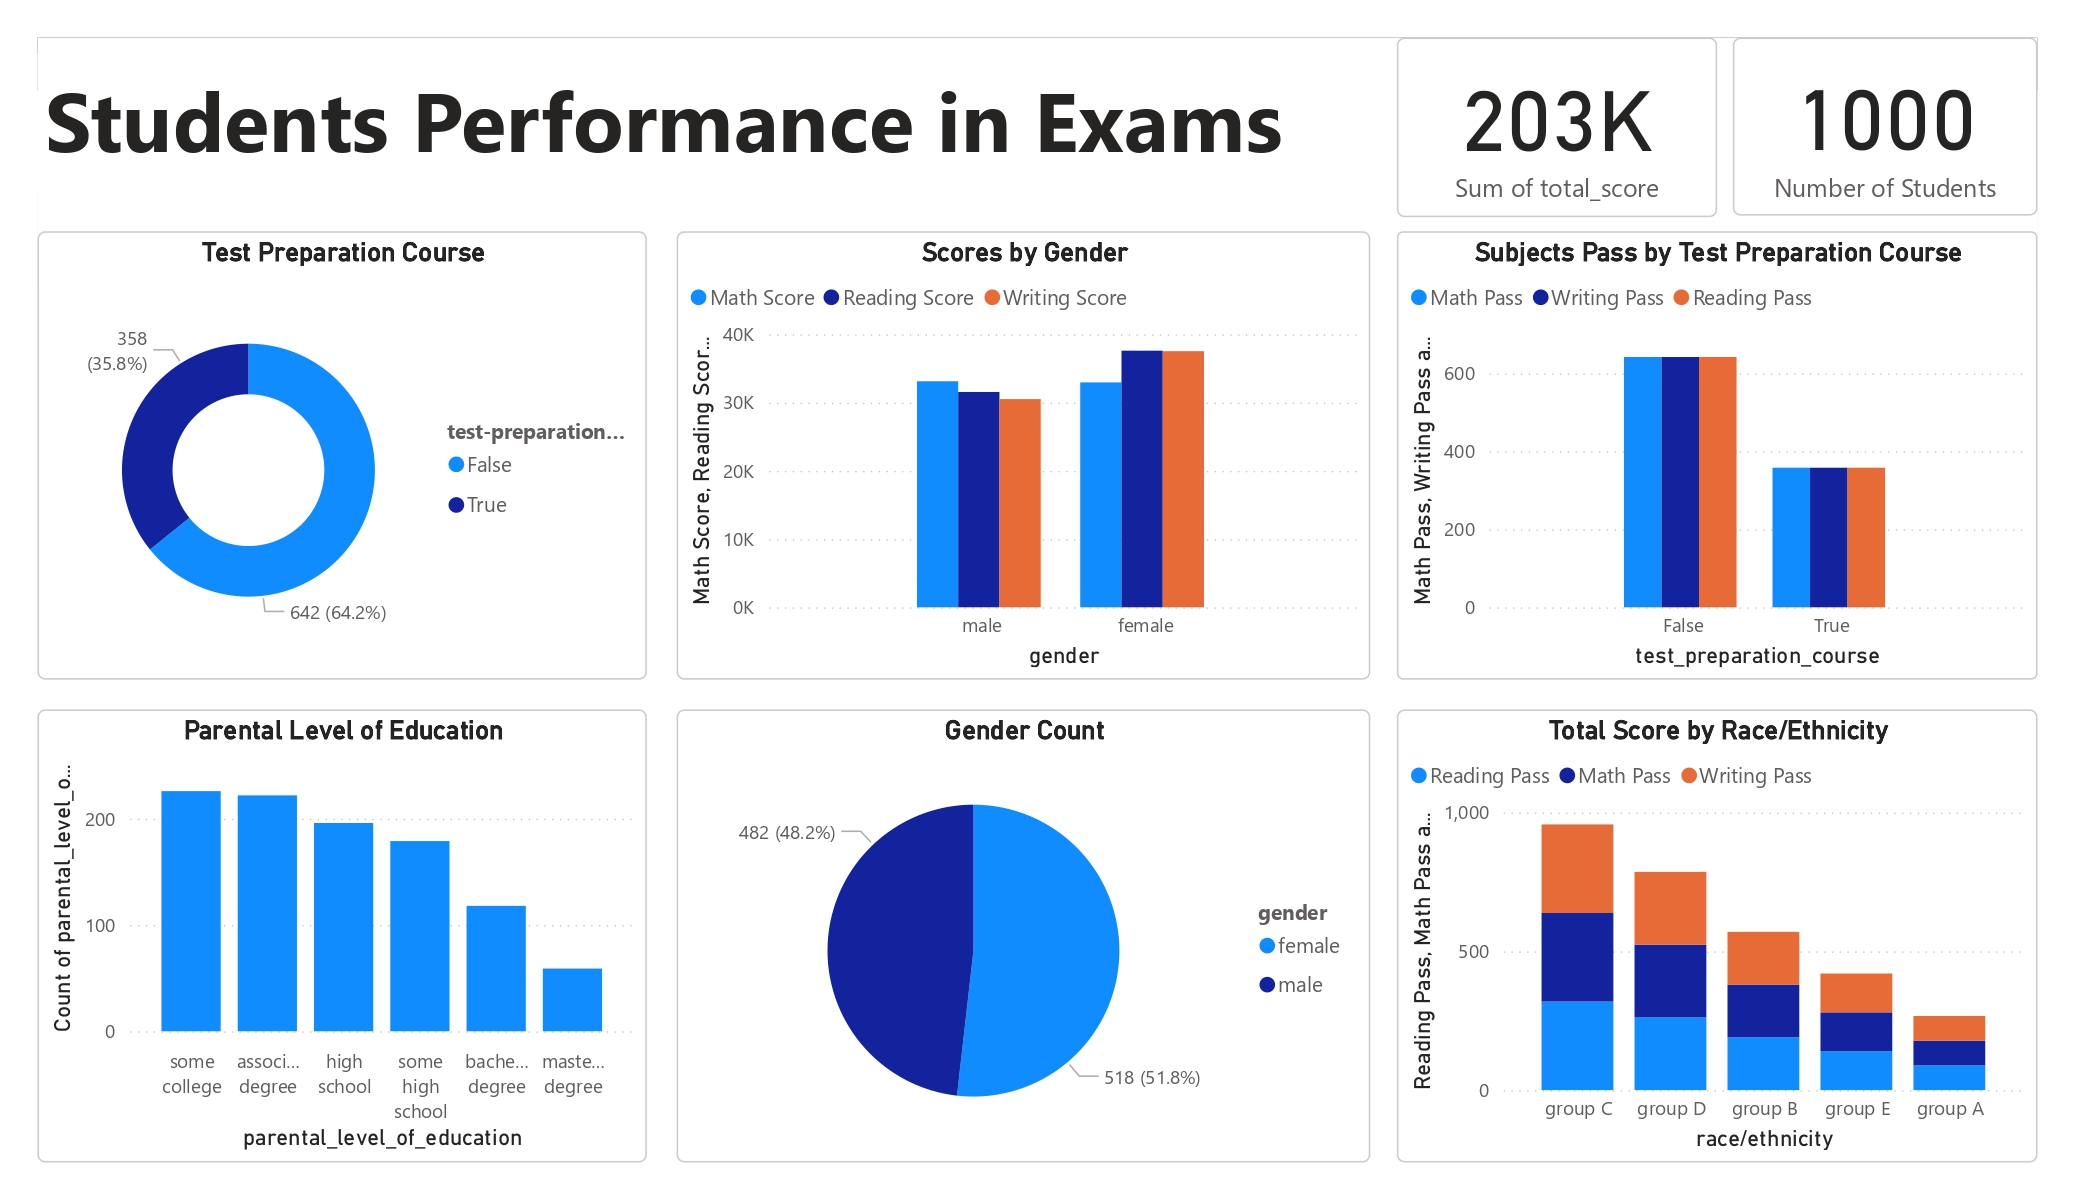

This screenshot's page, from the dashboard's own definition file:
{"tool":"powerbi","page":{"name":"Page1","canvas":[1280,720],"ordinal":0},"visuals":[{"type":"card","fields":{"Values":["Sum(cleaned_students_performance.total_score)"]},"box":[870,0,205,115],"z":0},{"type":"clusteredColumnChart","title":"Scores by Gender","fields":{"Category":["cleaned_students_performance.gender"],"Y":["Sum(cleaned_students_performance.math_score)","Sum(cleaned_students_performance.reading_score)","Sum(cleaned_students_performance.writing_score)"]},"box":[408.8,123.8,443.8,287.5],"z":1000},{"type":"clusteredColumnChart","title":"Subjects Pass by Test Preparation Course","fields":{"Y":["CountNonNull(cleaned_students_performance.math_pass)","CountNonNull(cleaned_students_performance.writing_pass)","CountNonNull(cleaned_students_performance.reading_pass)"],"Category":["cleaned_students_performance.test_preparation_course"]},"box":[870,123.8,410,287.5],"z":2000},{"type":"pieChart","title":"Gender Count","fields":{"Y":["CountNonNull(cleaned_students_performance.gender)"],"Category":["cleaned_students_performance.gender"]},"box":[408.8,430,443.8,290],"z":3000},{"type":"textbox","box":[0,10,841.2,90],"z":4000},{"type":"lineStackedColumnComboChart","title":"Parental Level of Education","fields":{"Category":["cleaned_students_performance.parental_level_of_education"],"Y":["CountNonNull(cleaned_students_performance.parental_level_of_education)"]},"box":[0,430,390,290],"z":5000},{"type":"columnChart","title":"Total Score by Race/Ethnicity","fields":{"Category":["cleaned_students_performance.race/ethnicity"],"Y":["CountNonNull(cleaned_students_performance.reading_pass)","CountNonNull(cleaned_students_performance.math_pass)","CountNonNull(cleaned_students_performance.writing_pass)"]},"box":[870,430,410,290],"z":5001},{"type":"donutChart","title":"Test Preparation Course","fields":{"Category":["cleaned_students_performance.test_preparation_course"],"Y":["CountNonNull(cleaned_students_performance.test_preparation_course)"]},"box":[0,123.8,390,287.5],"z":5002},{"type":"card","fields":{"Values":["CountNonNull(cleaned_students_performance.gender)"]},"box":[1085,0,195,113.8],"z":5003}]}

Visuals, with their boxes in screenshot pixels (x1, y1, x2, y2):
card - Sum(cleaned_students_performance.total_score): {"x1": 1397, "y1": 38, "x2": 1717, "y2": 217}
"Scores by Gender" clusteredColumnChart: {"x1": 676, "y1": 231, "x2": 1370, "y2": 680}
"Subjects Pass by Test Preparation Course" clusteredColumnChart: {"x1": 1397, "y1": 231, "x2": 2038, "y2": 680}
"Gender Count" pieChart: {"x1": 676, "y1": 709, "x2": 1370, "y2": 1162}
textbox: {"x1": 38, "y1": 53, "x2": 1352, "y2": 194}
"Parental Level of Education" lineStackedColumnComboChart: {"x1": 38, "y1": 709, "x2": 647, "y2": 1162}
"Total Score by Race/Ethnicity" columnChart: {"x1": 1397, "y1": 709, "x2": 2038, "y2": 1162}
"Test Preparation Course" donutChart: {"x1": 38, "y1": 231, "x2": 647, "y2": 680}
card - CountNonNull(cleaned_students_performance.gender): {"x1": 1733, "y1": 38, "x2": 2038, "y2": 215}
